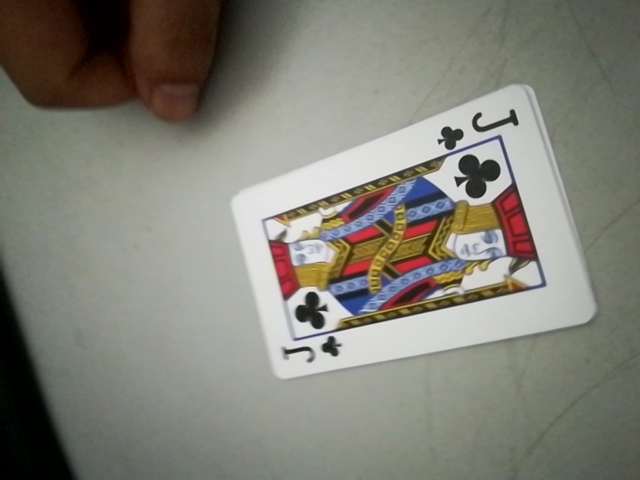mh j: (428, 105, 522, 155), (274, 322, 346, 376)
